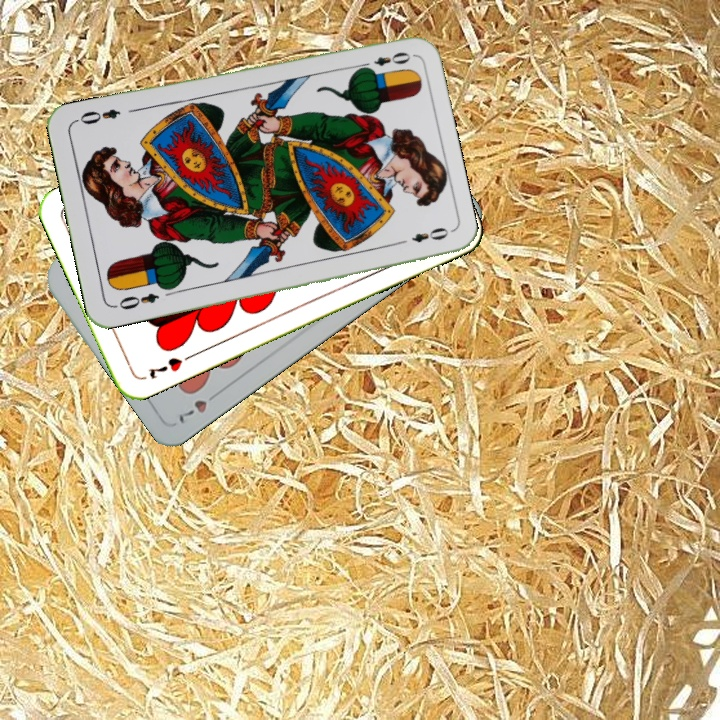EO: (355, 48, 414, 74), (110, 289, 162, 313)
H7: (174, 386, 224, 426), (144, 353, 185, 382)
